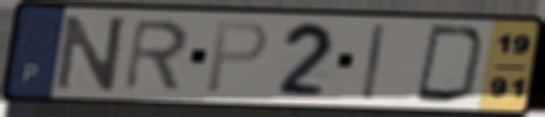2: (273, 20, 338, 101)
D: (412, 22, 490, 106)
I: (359, 21, 388, 102)
N: (52, 13, 130, 93)
P: (202, 20, 272, 96)
R: (121, 18, 192, 93)
